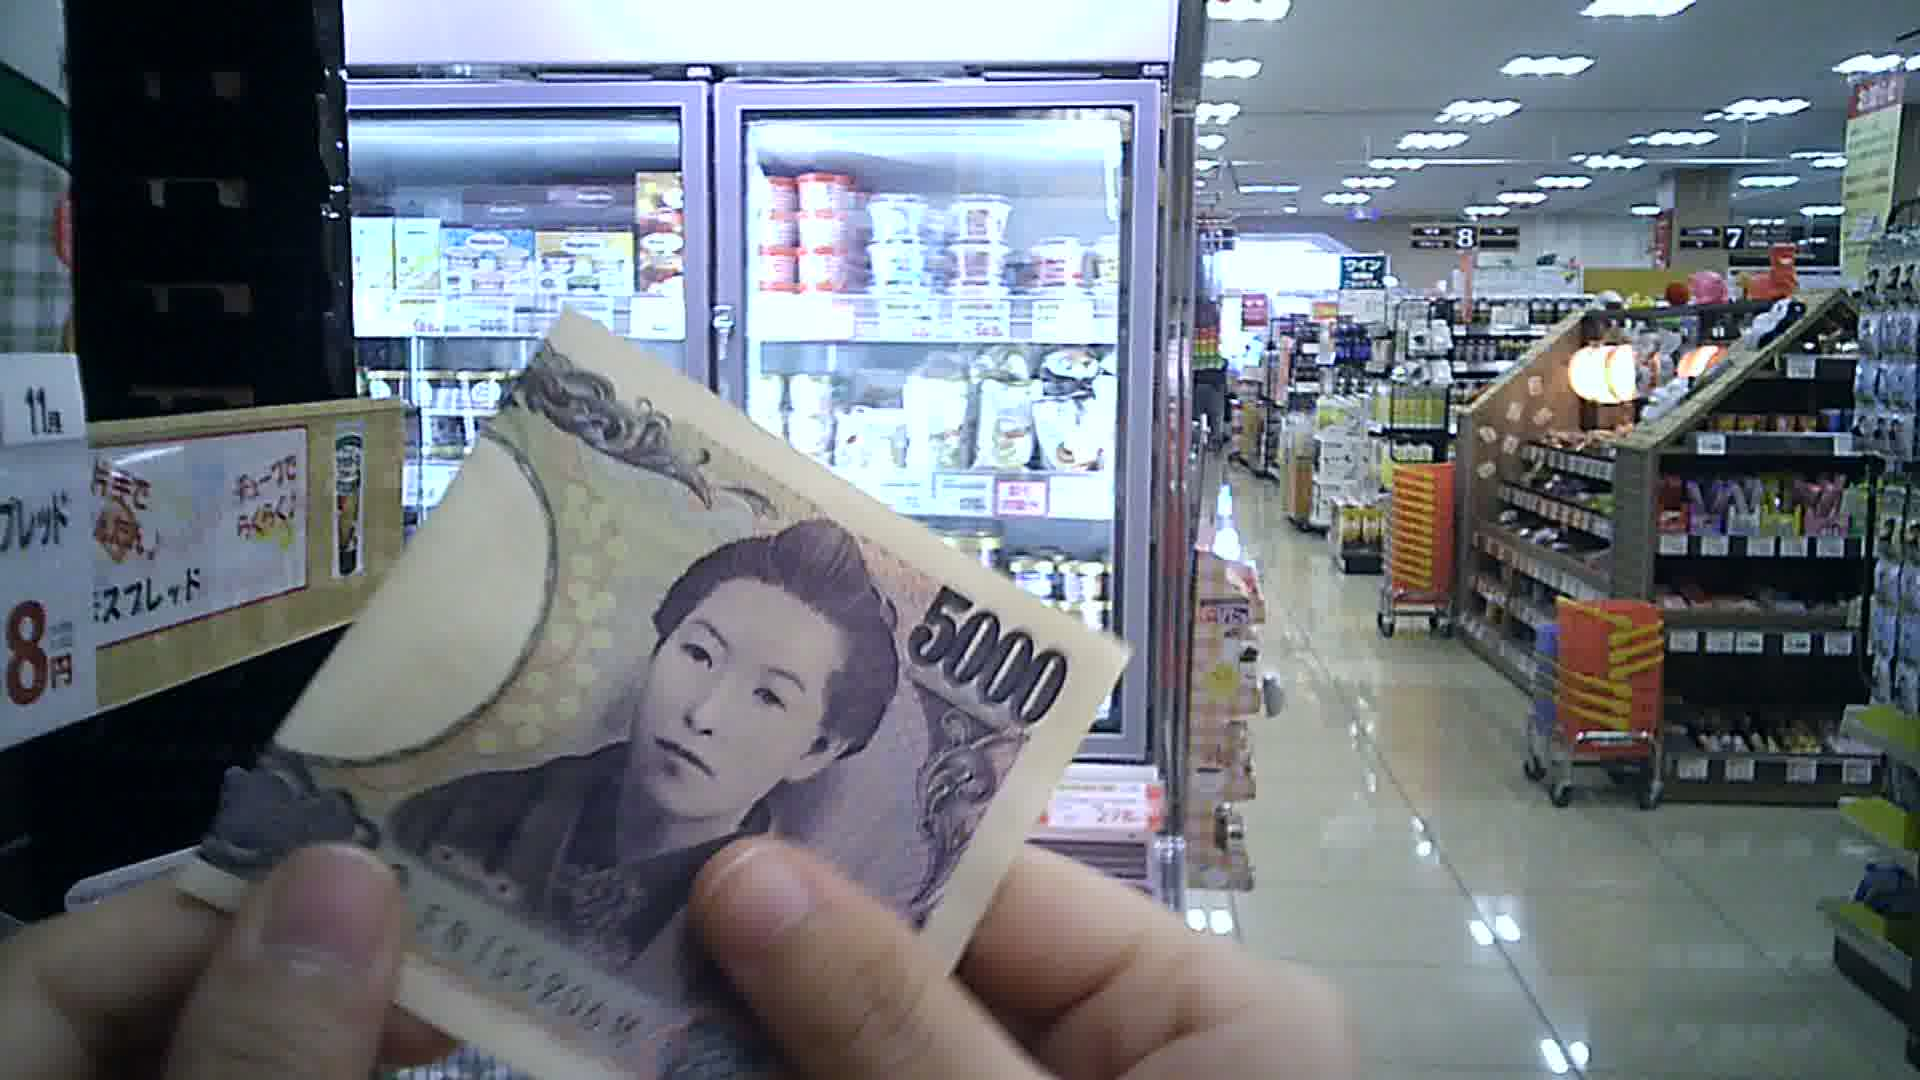5,000 Yen: (206, 282, 1108, 1079)
